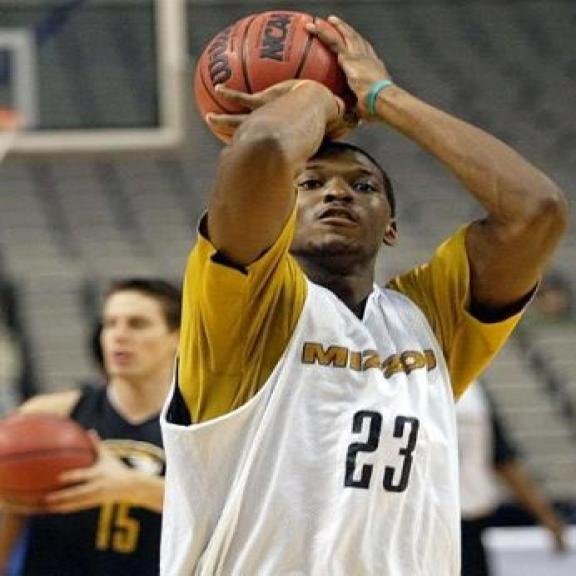face: (276, 134, 408, 273), (99, 288, 181, 389)
